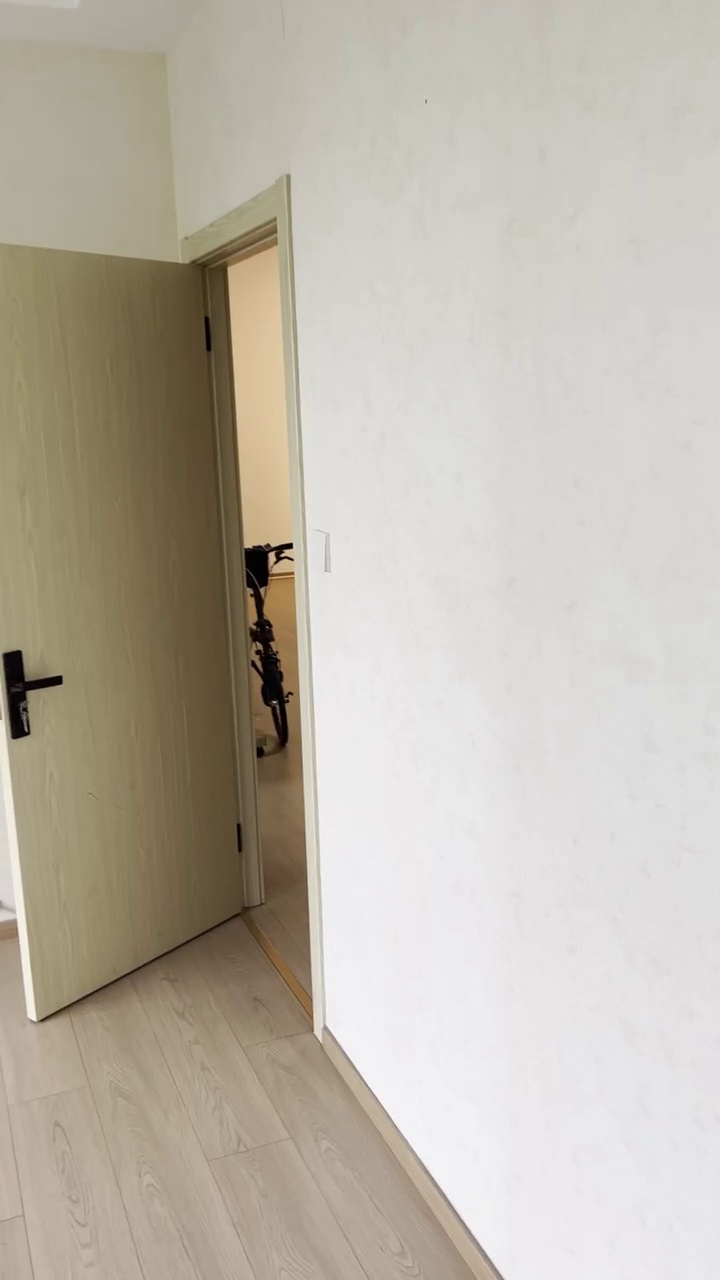button: (308, 528, 330, 575)
